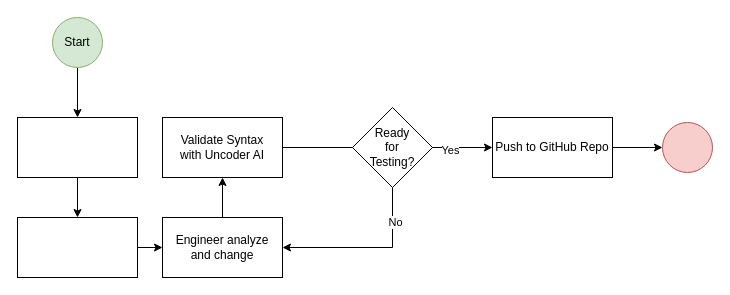
The diagram is 730 pixels wide and 295 high, and some of its shapes have lost their labels. The shapes that lost their labels are listed below. From the top down, each one's box as (x1, y1, x2, y2) in pixels, then its label:
(16, 116, 138, 178): Prioritize Detection Needs from Risk and Threat Intel
(662, 122, 712, 172): End
(16, 216, 138, 278): Use Poe Chatbot for bootstrap syntax
